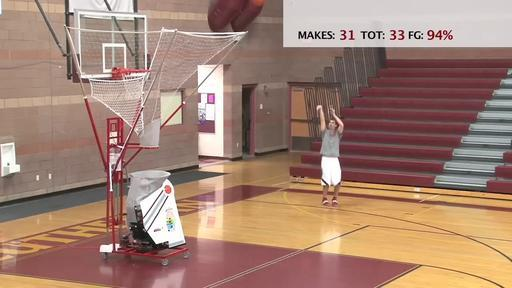human: (315, 105, 344, 209)
rim: (119, 68, 150, 96)
